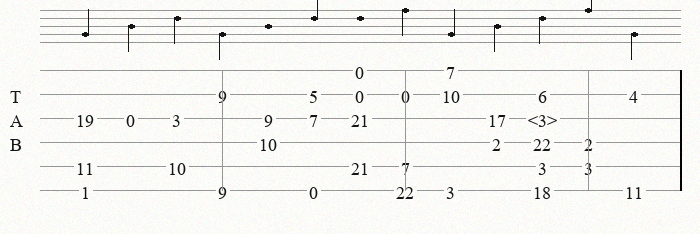0: (126, 110, 139, 126), (309, 182, 322, 198), (355, 62, 368, 78), (355, 86, 368, 102), (401, 86, 414, 102)
1: (81, 182, 94, 198)
10: (168, 158, 190, 174), (259, 134, 281, 150), (442, 86, 464, 102)
11: (76, 158, 98, 174), (625, 182, 647, 198)
17: (488, 110, 510, 126)
18: (533, 182, 555, 198)
19: (76, 110, 98, 126)
2: (492, 134, 505, 150), (584, 134, 597, 150)
21: (351, 158, 373, 174), (351, 110, 373, 126)
22: (396, 182, 418, 198), (533, 134, 555, 150)
3: (172, 110, 185, 126), (446, 182, 459, 198), (538, 158, 551, 174), (584, 158, 597, 174)
4: (629, 86, 642, 102)
5: (309, 86, 322, 102)
6: (538, 86, 551, 102)
7: (309, 110, 322, 126), (401, 158, 414, 174), (446, 62, 459, 78)
9: (218, 182, 231, 198), (218, 86, 231, 102), (264, 110, 277, 126)
harmonic: (528, 110, 561, 126)
